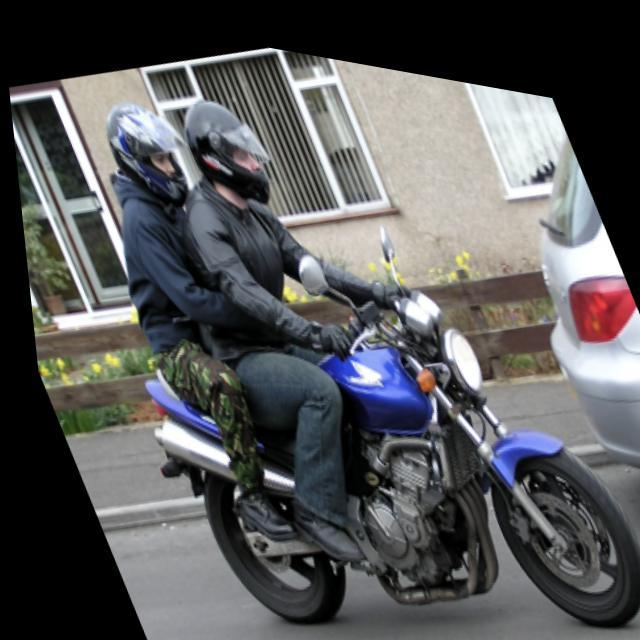Helmet: (177, 94, 284, 209), (100, 93, 192, 207)
